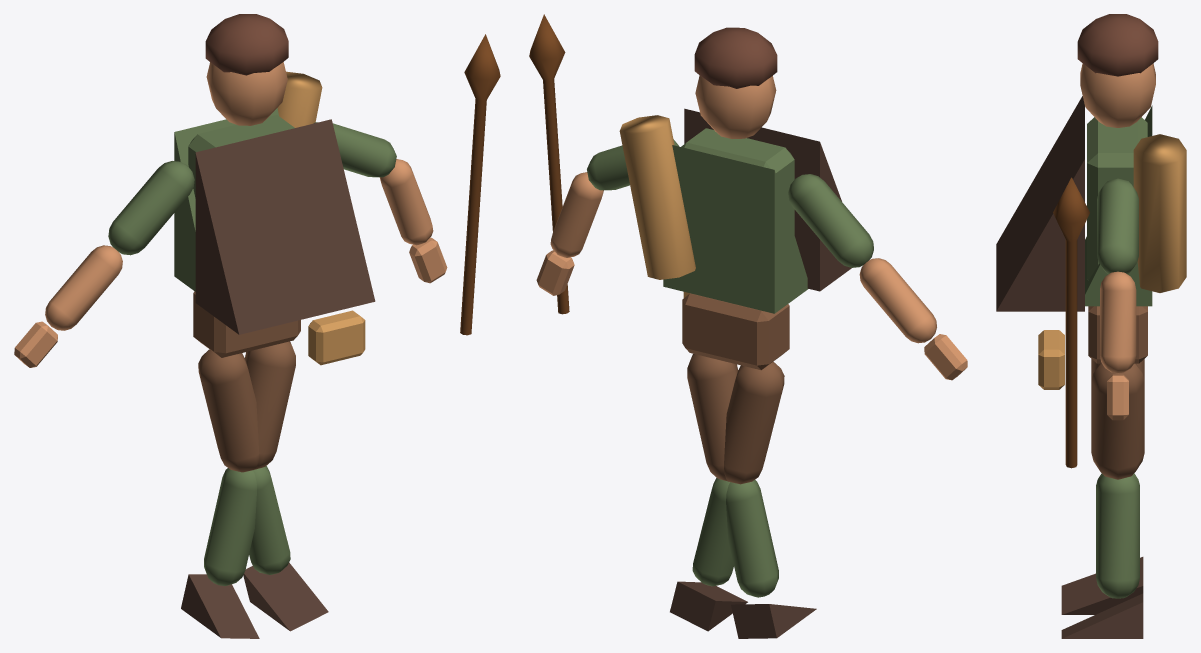
Rendered from adventurer.rustic.glb.
3 renders of one model, left to right at view 1: azimuth 30°, elevation 25°; view 2: azimuth 150°, elevation 25°; view 3: azimuth 270°, elevation 25°, orthographic.
Visible parts, largest first — view 1: accessory.body, thigh.left, shin.right, accessory.main-hand, upper-arm.left, hair, thigh.right, head, forearm.left, foot.left, foot.right, shin.left (+9 smaller); view 2: tunic, accessory.back, pelvis, thigh.left, accessory.body, shin.right, upper-arm.left, hair, thigh.right, head, accessory.main-hand, forearm.left (+8 smaller); view 3: accessory.body, accessory.back, shin.left, thigh.right, accessory.main-hand, hair, torso, upper-arm.right, head, forearm.right, foot.left, foot.right (+4 smaller).
Part boxes in pixels (x1,y1,x2,y2): accessory.body: [195, 119, 375, 334]; thigh.left: [198, 349, 259, 472]; shin.right: [204, 468, 256, 586]; accessory.main-hand: [460, 34, 500, 335]; upper-arm.left: [108, 161, 194, 255]; hair: [205, 14, 288, 75]; thigh.right: [245, 341, 295, 469]; head: [206, 62, 287, 125]; forearm.left: [45, 245, 122, 330]; foot.left: [243, 562, 328, 631]; foot.right: [181, 574, 259, 638]; shin.left: [249, 466, 290, 574]; tunic: [663, 145, 808, 313]; accessory.back: [619, 115, 695, 279]; pelvis: [682, 293, 789, 370]; thigh.left: [724, 361, 784, 484]; accessory.body: [684, 108, 851, 291]; shin.right: [726, 480, 778, 597]; upper-arm.left: [788, 174, 873, 267]; hair: [694, 27, 777, 88]; thigh.right: [687, 354, 738, 481]; head: [695, 75, 776, 138]; accessory.main-hand: [529, 14, 569, 314]; forearm.left: [859, 258, 936, 343]; accessory.body: [996, 96, 1084, 311]; accessory.back: [1133, 134, 1186, 292]; shin.left: [1096, 474, 1139, 598]; thigh.right: [1091, 363, 1144, 479]; accessory.main-hand: [1053, 177, 1089, 468]; hair: [1077, 14, 1158, 76]; torso: [1087, 117, 1147, 280]; upper-arm.right: [1097, 178, 1138, 274]; head: [1080, 63, 1155, 127]; forearm.right: [1100, 271, 1136, 373]; foot.left: [1061, 593, 1143, 638]; foot.right: [1061, 557, 1143, 614].
Bounding box in the file's own units: 2.43 × 3.01 × 0.86.
